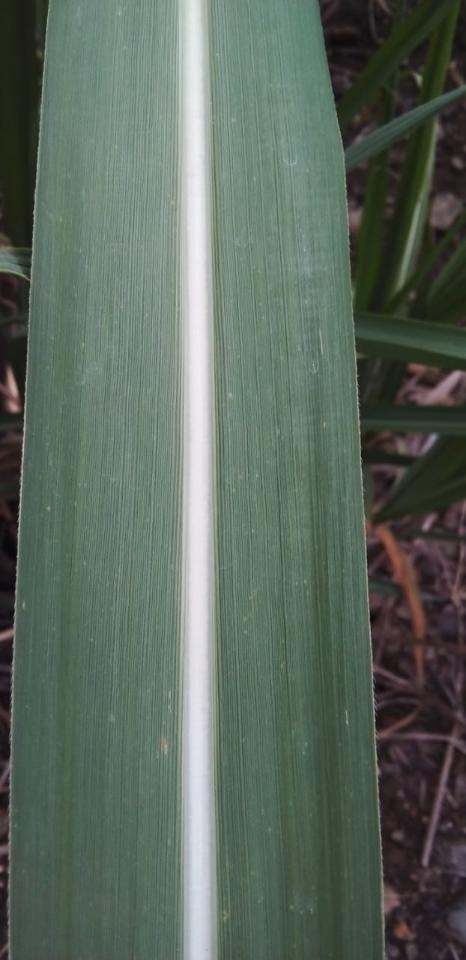Healthy: (10, 0, 382, 959)
